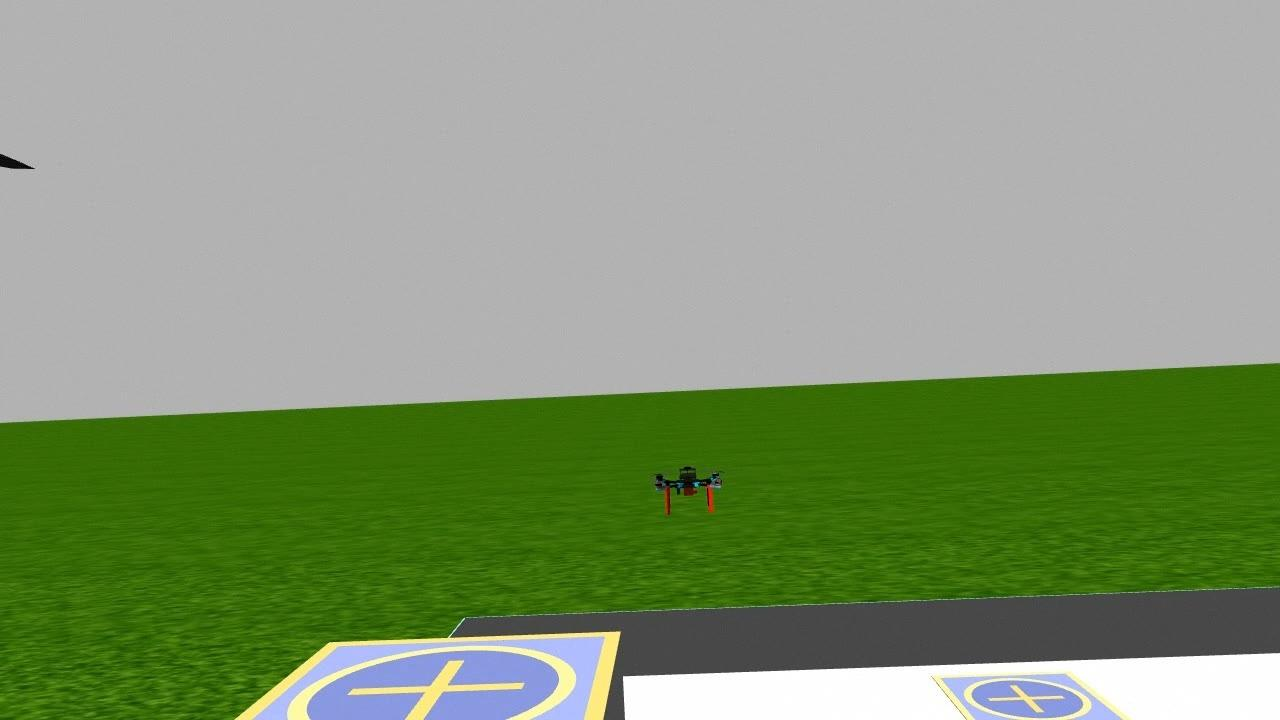UAV: (641, 448, 737, 529)
